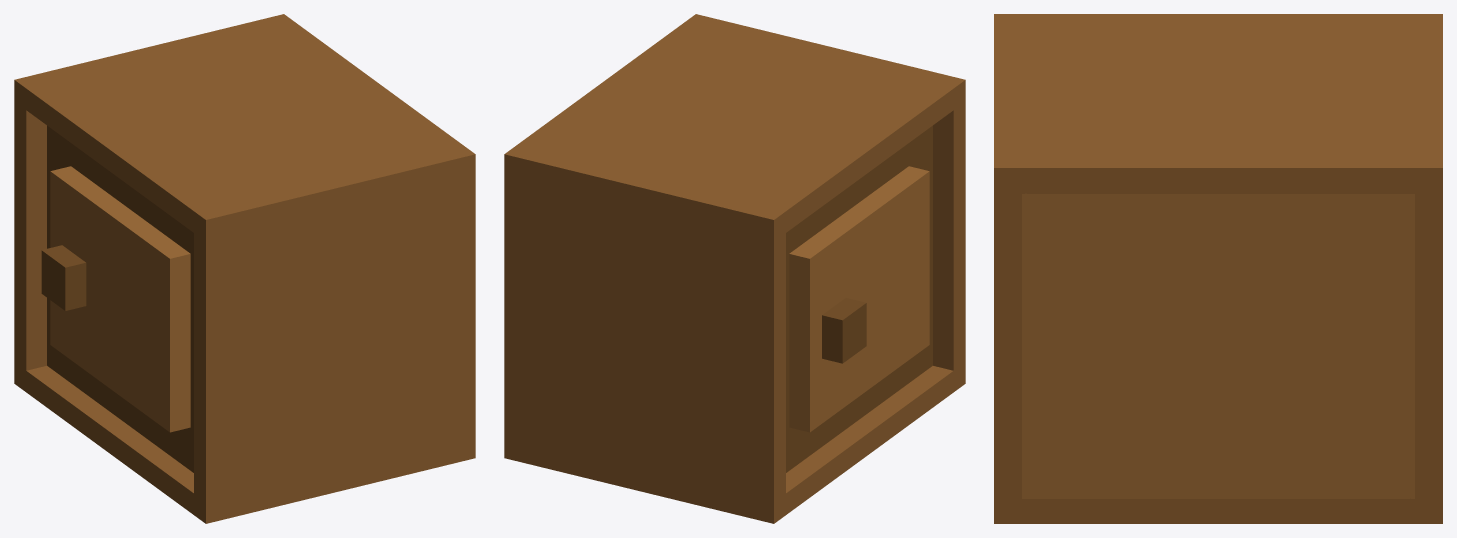
Rendered from nightstand.fbx.
The picture shows the model from 3 angles, left to right: view 1: azimuth 30°, elevation 25°; view 2: azimuth 150°, elevation 25°; view 3: azimuth 270°, elevation 25°; orthographic projection. The views are drawn at different scales.
Visible parts, largest first — view 1: nightstand; view 2: nightstand; view 3: nightstand.
Boxes of the visible parts, box(x1,y1,x2,y2) form: nightstand: box(14, 14, 475, 523); nightstand: box(504, 14, 965, 523); nightstand: box(994, 14, 1442, 523).
Size of the model in its own units: 14 by 14 by 16.
